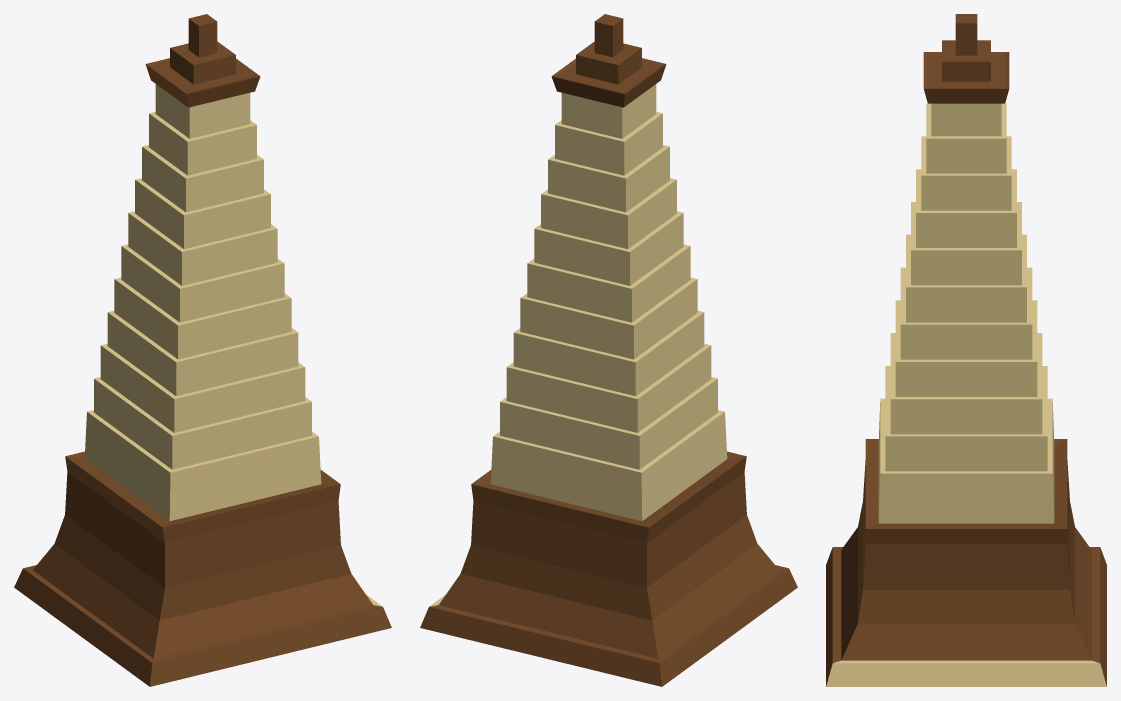
The picture shows the model from 3 angles, left to right: view 1: azimuth 30°, elevation 25°; view 2: azimuth 150°, elevation 25°; view 3: azimuth 270°, elevation 25°; orthographic projection. The views are drawn at different scales.
Visible parts, largest first — view 1: Large Pyramid.003; view 2: Large Pyramid.003; view 3: Large Pyramid.003.
Part boxes in pixels (<box>): Large Pyramid.003: <box>14,14,391,686</box>; Large Pyramid.003: <box>420,14,797,686</box>; Large Pyramid.003: <box>826,14,1106,686</box>.
Size of the model in its own units: 2 by 4.65 by 1.95.
